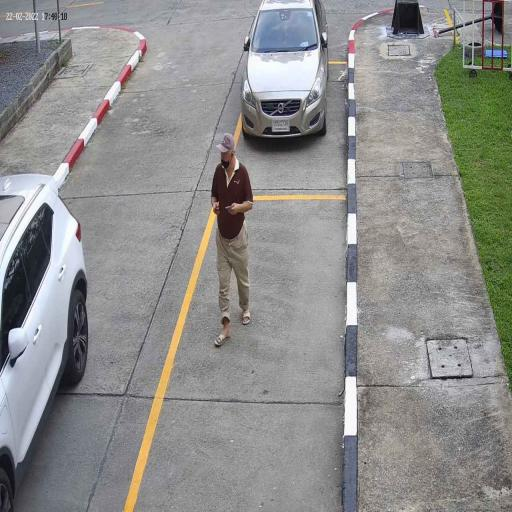car: (0, 172, 90, 512), (240, 0, 330, 144)
